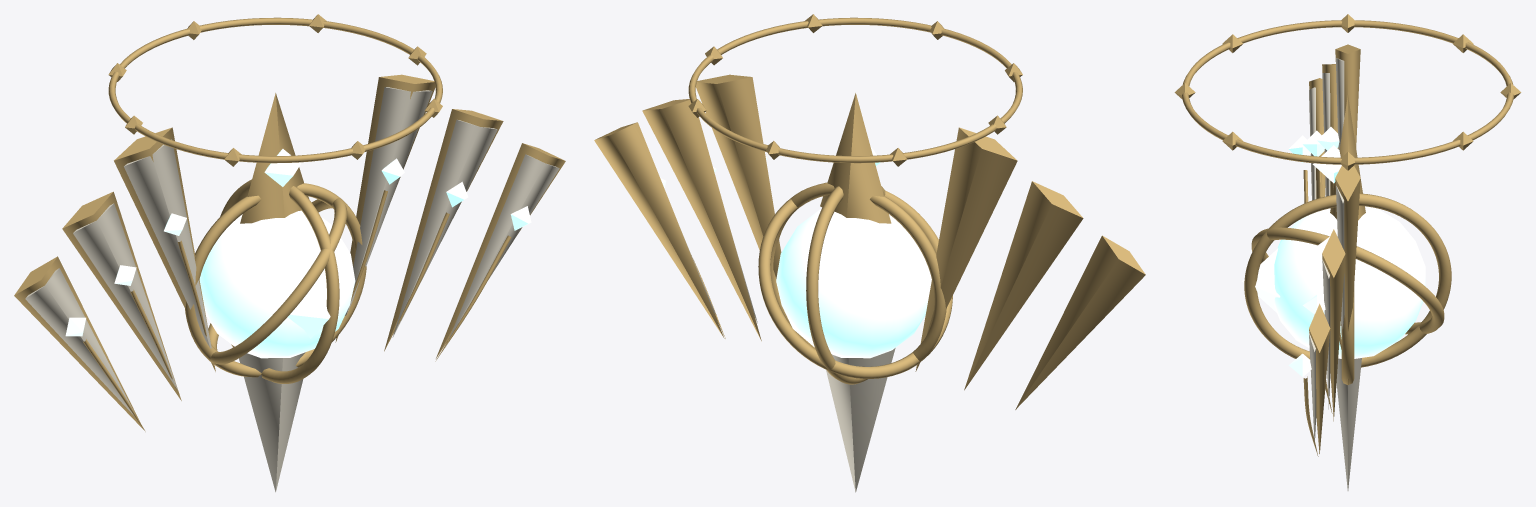
The model's file is astral-guardian.glb.
3 renders of one model, left to right at view 1: azimuth 30°, elevation 25°; view 2: azimuth 150°, elevation 25°; view 3: azimuth 270°, elevation 25°, orthographic.
Visible parts, largest first — view 1: node_2, node_10, node_42, node_26, node_31, node_15, node_39, node_3, node_5, node_36, node_20, node_40 (+9 smaller); view 2: node_2, node_9, node_14, node_30, node_25, node_19, node_35, node_42, node_4, node_39, node_40, node_3 (+1 smaller); view 3: node_2, node_5, node_42, node_4, node_25, node_30, node_39, node_35, node_9, node_3, node_6, node_40 (+9 smaller).
Boxes of the visible parts, x1,y1,x2,y2 form: node_2: [199, 210, 355, 358]; node_10: [124, 139, 211, 348]; node_42: [108, 17, 442, 163]; node_26: [345, 87, 432, 315]; node_31: [392, 119, 497, 337]; node_15: [73, 203, 177, 389]; node_39: [239, 352, 305, 492]; node_3: [185, 183, 366, 377]; node_5: [220, 179, 339, 383]; node_36: [446, 154, 559, 345]; node_20: [25, 268, 138, 420]; node_40: [240, 93, 308, 223]; node_2: [776, 209, 931, 358]; node_9: [915, 127, 1017, 371]; node_14: [964, 181, 1083, 390]; node_30: [642, 99, 761, 341]; node_25: [696, 74, 781, 280]; node_19: [1015, 235, 1145, 409]; node_35: [594, 122, 724, 338]; node_42: [688, 17, 1022, 163]; node_4: [758, 182, 952, 378]; node_39: [826, 348, 895, 492]; node_40: [820, 93, 891, 223]; node_3: [770, 183, 946, 372]; node_2: [1274, 206, 1425, 358]; node_5: [1244, 193, 1451, 367]; node_42: [1182, 20, 1513, 164]; node_4: [1251, 227, 1444, 334]; node_25: [1335, 166, 1360, 384]; node_30: [1322, 229, 1345, 421]; node_39: [1336, 358, 1361, 490]; node_35: [1309, 303, 1330, 453]; node_9: [1335, 44, 1360, 147]; node_3: [1341, 286, 1354, 384]; node_6: [1242, 248, 1280, 312]; node_40: [1330, 95, 1365, 220].
Bounding box in the file's own units: 4.48 × 3.19 × 2.45.
